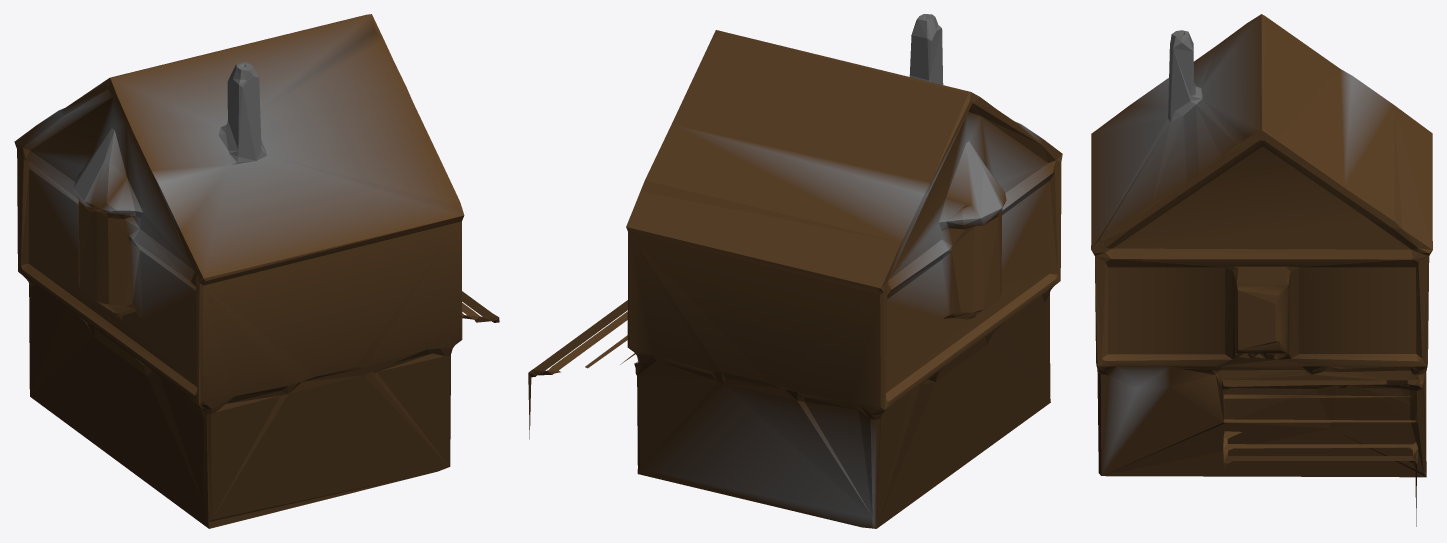
File: Medieval Houses(1).glb
3 renders of one model, left to right at view 1: azimuth 30°, elevation 25°; view 2: azimuth 150°, elevation 25°; view 3: azimuth 270°, elevation 25°, orthographic. The views are drawn at different scales.
Visible parts, largest first — view 1: Root; view 2: Root; view 3: Root.
Boxes of the visible parts, x1=… form: Root: x1=14, y1=14, x2=499, y2=528; Root: x1=528, y1=14, x2=1062, y2=528; Root: x1=1091, y1=14, x2=1432, y2=526.
Bounding box in the file's own units: 10.33 × 10.17 × 8.45.
